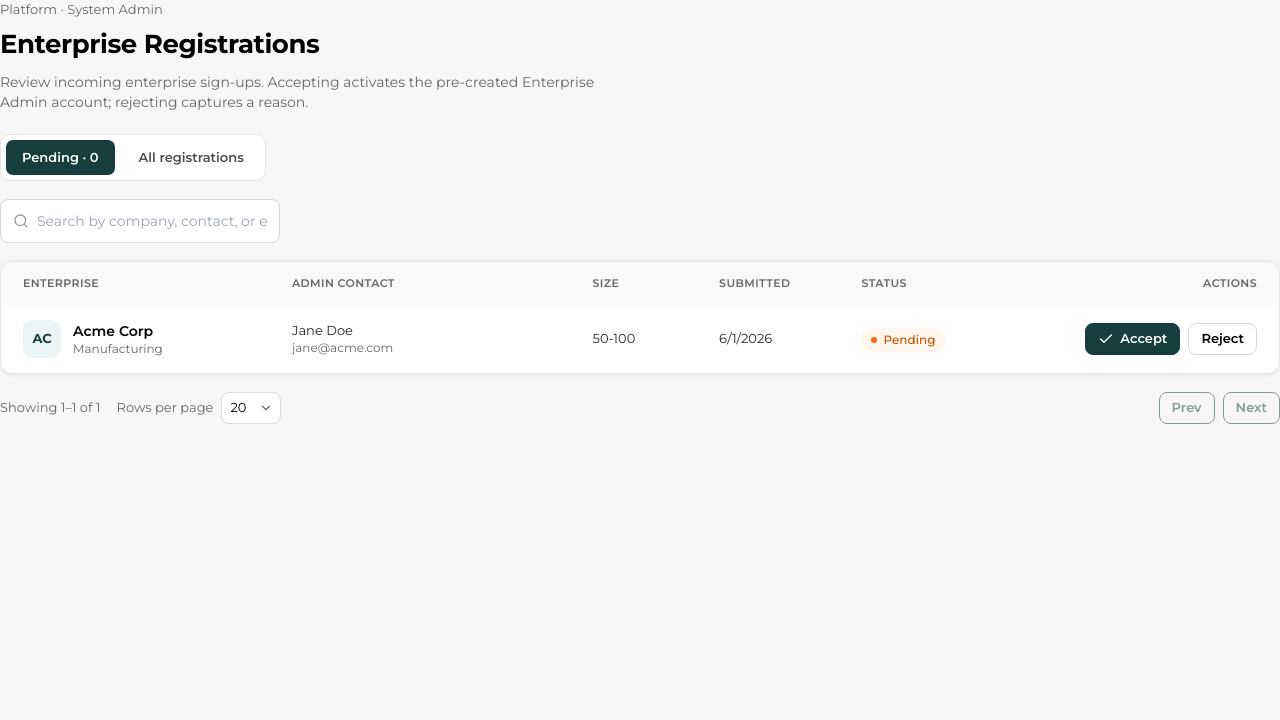
clicking a row opens the review overlay with its details
Click the text "Acme Corp" at (118, 330), box [73,320,163,340]
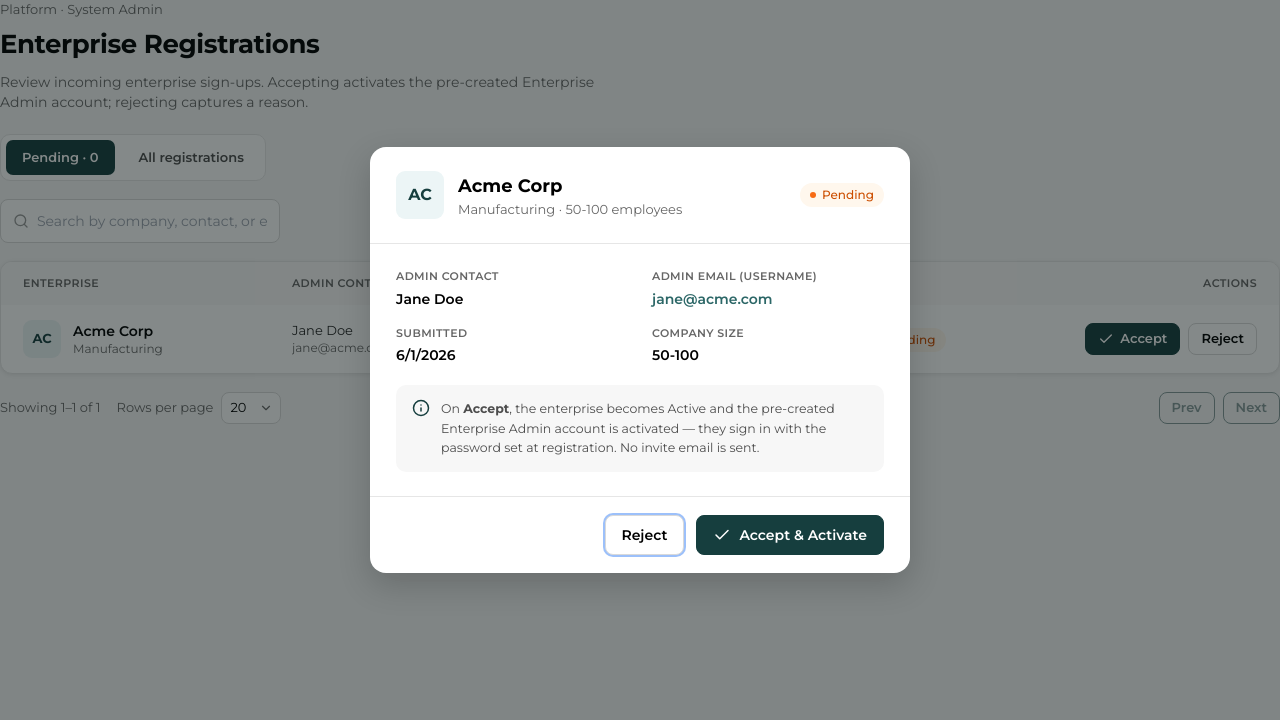
Now the text "jane@acme.com" is shown, box [652,290,773,308]
Now the button "Accept & Activate" is shown, box [696,515,884,555]
